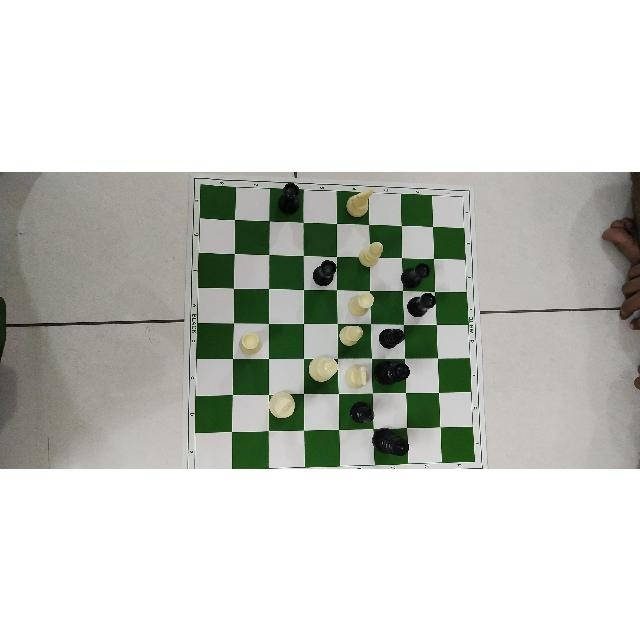black-bishop: (377, 327, 405, 349), (350, 399, 374, 423)
black-king: (373, 426, 411, 455)
black-queen: (374, 359, 410, 385)
black-rook: (399, 262, 431, 288), (406, 291, 437, 316), (278, 182, 300, 214), (312, 258, 336, 286)
white-bishop: (358, 240, 383, 265), (338, 324, 364, 346)
white-king: (268, 389, 297, 418)
white-knight: (345, 187, 375, 217), (345, 363, 368, 389)
white-queen: (308, 355, 338, 381)
white-rook: (347, 292, 374, 316), (238, 331, 263, 355)
